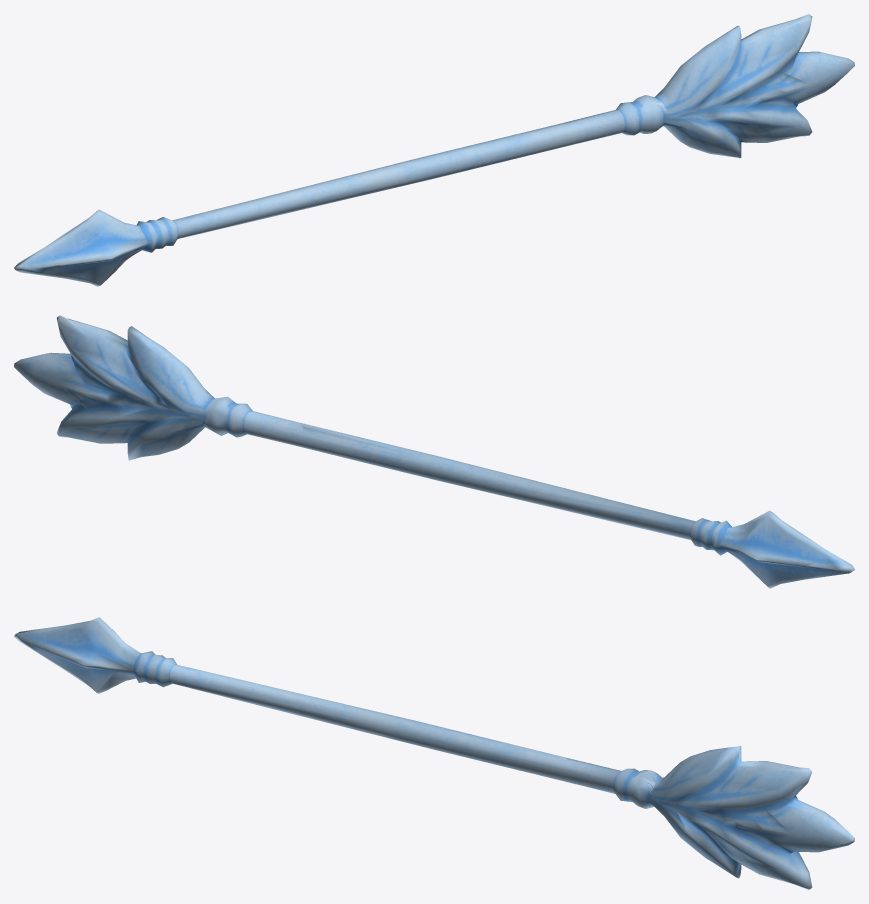
File: Frost Arrow.fbx
3 renders of one model, top to bottom at view 1: azimuth 30°, elevation 25°; view 2: azimuth 150°, elevation 25°; view 3: azimuth 330°, elevation 25°, orthographic.
Visible parts, largest first — view 1: Arrow; view 2: Arrow; view 3: Arrow.
Part boxes in pixels (x1,y1,x2,y2): Arrow: (14, 14, 854, 286); Arrow: (14, 315, 854, 588); Arrow: (14, 617, 854, 889).
Size of the model in its own units: 67.44 by 10.15 by 4.02.
